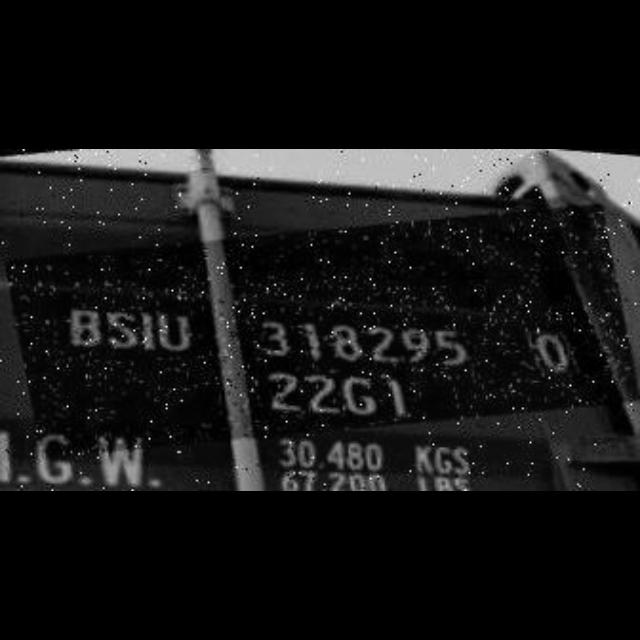0: (534, 330, 568, 380), (298, 436, 318, 474), (364, 440, 384, 474)
1: (296, 317, 326, 363), (385, 376, 411, 424)
2: (262, 366, 306, 422), (302, 370, 340, 416), (366, 320, 399, 368), (323, 472, 342, 492)
3: (260, 319, 296, 365), (276, 436, 300, 474)
4: (328, 439, 348, 475)
5: (430, 321, 472, 374)
6: (279, 472, 301, 492)
7: (301, 471, 317, 492)
8: (328, 321, 364, 364), (346, 439, 366, 477)
9: (401, 324, 432, 370)
b: (59, 300, 103, 352)
g: (34, 430, 78, 492), (338, 372, 379, 424), (434, 444, 452, 478)
i: (0, 428, 16, 492), (141, 309, 155, 353)
k: (413, 442, 432, 476)
s: (106, 304, 140, 354), (451, 443, 471, 479)
u: (156, 311, 194, 355)
w: (90, 430, 150, 492)
